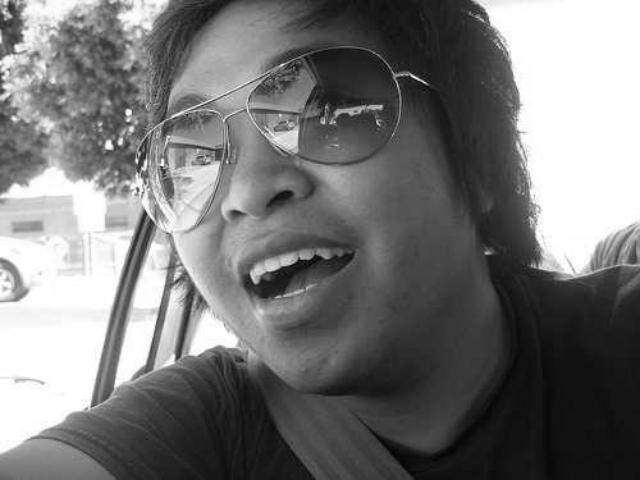Seatbelt: (240, 342, 418, 480)
